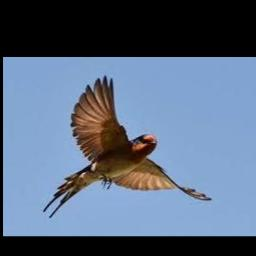Swallow: (43, 76, 213, 219)
